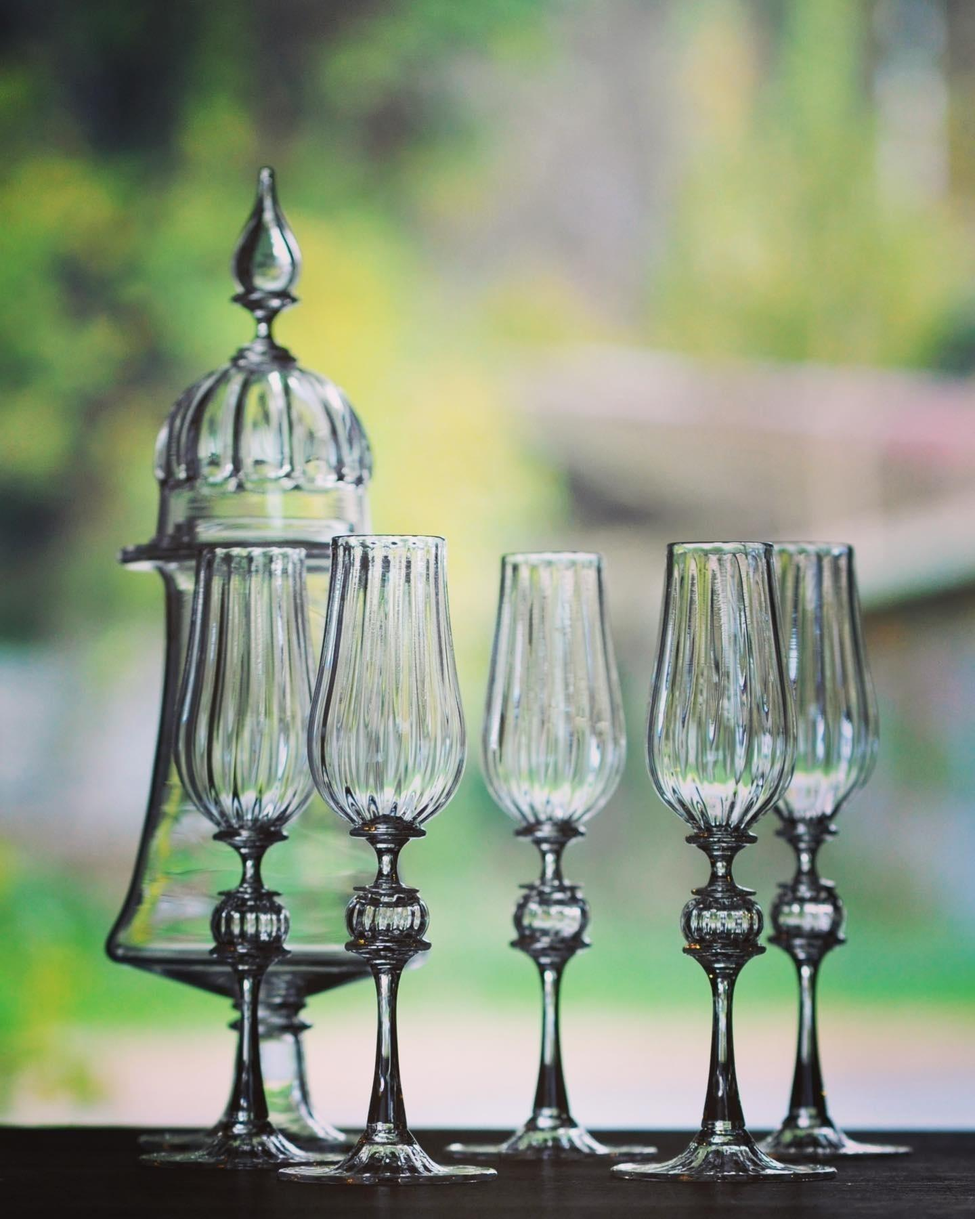glass-wine: (706, 540, 904, 1176), (626, 540, 817, 1182), (146, 541, 337, 1170), (292, 535, 477, 1184), (462, 547, 643, 1176)
